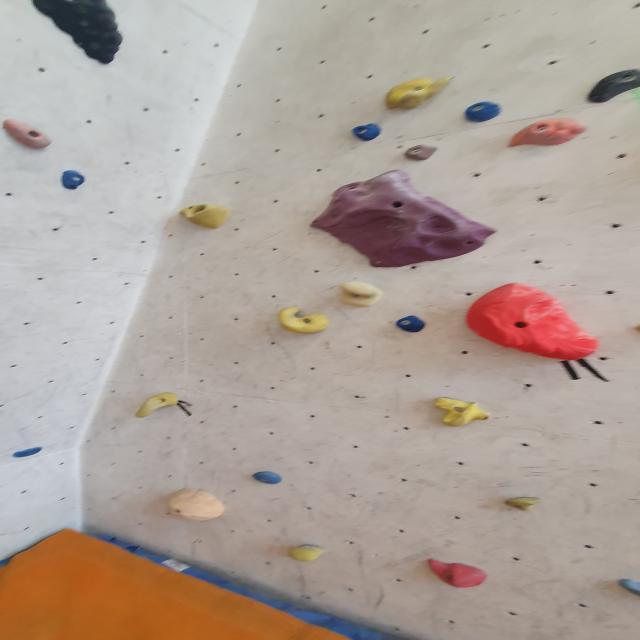Crimp: (503, 118, 591, 151), (461, 100, 506, 124), (500, 492, 543, 516), (392, 313, 429, 335), (347, 123, 385, 144), (403, 143, 442, 162), (57, 169, 89, 192), (614, 575, 640, 600), (253, 472, 286, 488), (12, 446, 46, 461)
Jug: (20, 0, 131, 67), (430, 395, 494, 431), (274, 303, 333, 337), (336, 278, 386, 309), (131, 392, 183, 421)
Pinch: (382, 75, 457, 113), (0, 118, 56, 154)
Pocket: (176, 200, 234, 230)
Sloper: (310, 168, 499, 270), (460, 279, 603, 360), (419, 554, 494, 592), (165, 485, 229, 525), (286, 540, 327, 564)
